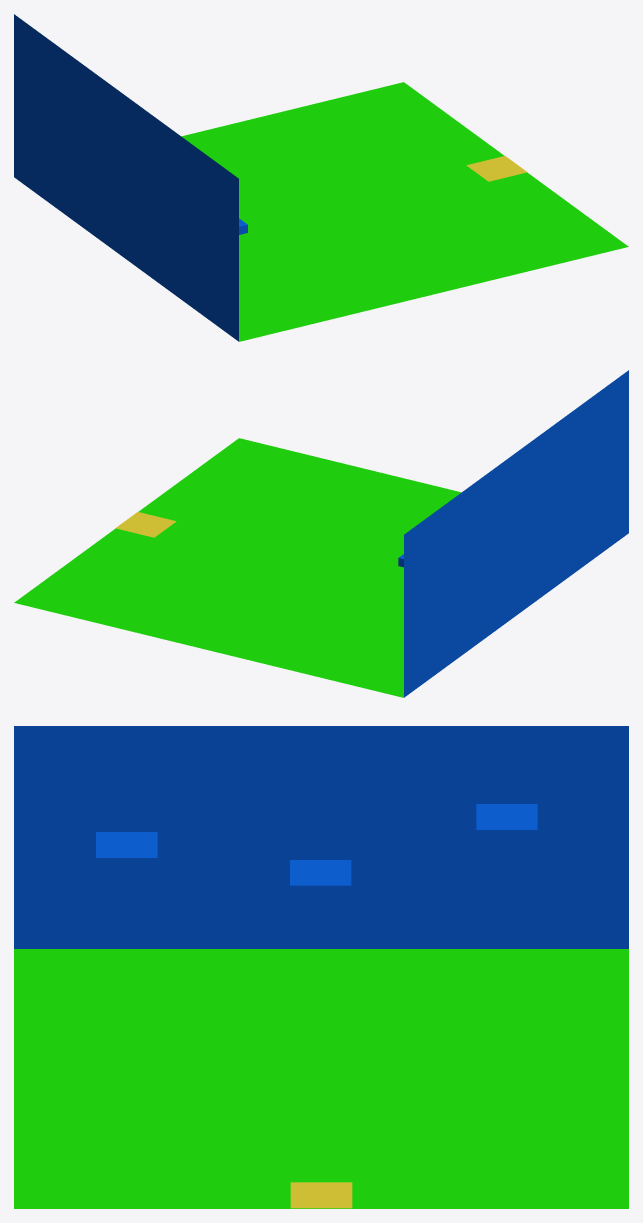
The picture shows the model from 3 angles, top to bottom: view 1: azimuth 30°, elevation 25°; view 2: azimuth 150°, elevation 25°; view 3: azimuth 270°, elevation 25°; orthographic projection. The views are drawn at different scales.
Parts seen in each view (by area): view 1: Plane, Plane.002, Plane.001; view 2: Plane, Plane.002, Plane.001; view 3: Plane, Plane.002, Cube.002, Cube.001, Cube, Plane.001.
Part boxes in pixels (box(x1,y1,x2,y2)): Plane: box(181, 82, 628, 341); Plane.002: box(14, 14, 238, 341); Plane.001: box(466, 156, 527, 181); Plane: box(14, 438, 461, 697); Plane.002: box(404, 370, 628, 697); Plane.001: box(115, 512, 176, 537); Plane: box(14, 949, 628, 1208); Plane.002: box(14, 726, 628, 948); Cube.002: box(476, 804, 537, 841); Cube.001: box(290, 860, 351, 896); Cube: box(96, 832, 157, 868); Plane.001: box(290, 1182, 352, 1208).
Bounding box in the file's own units: 10 × 10 × 4.
